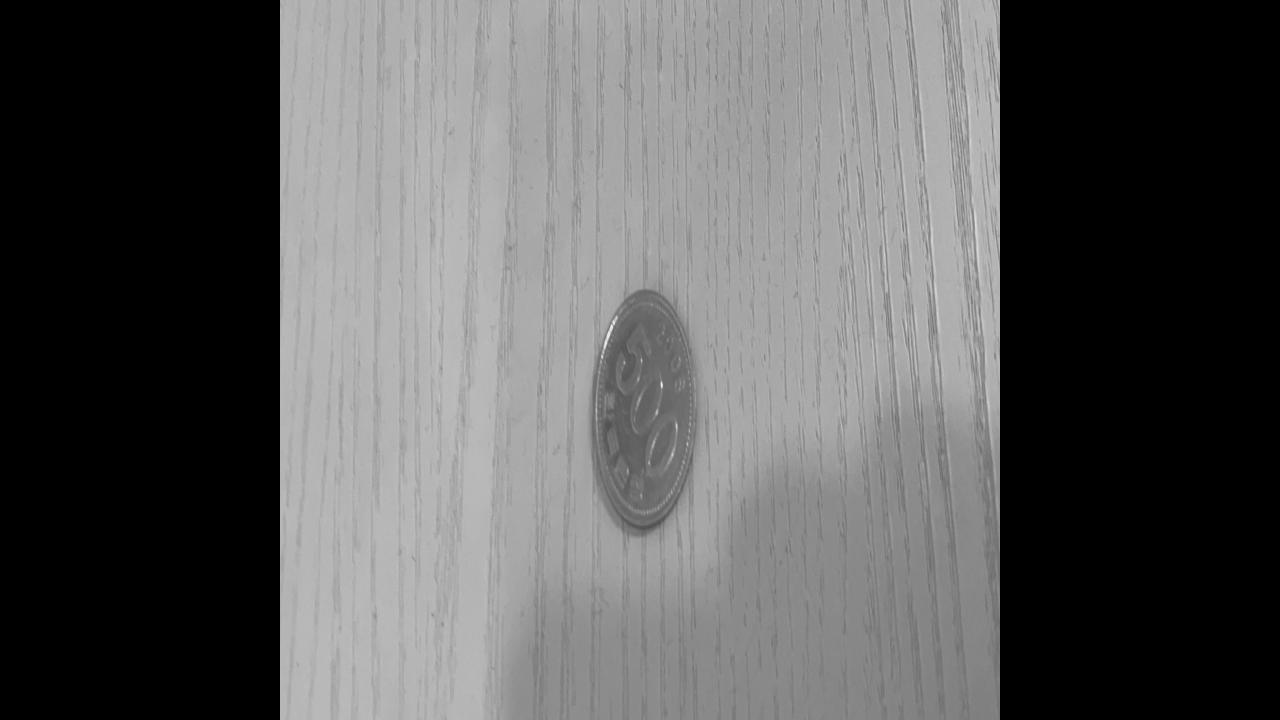coin: (590, 277, 696, 537)
